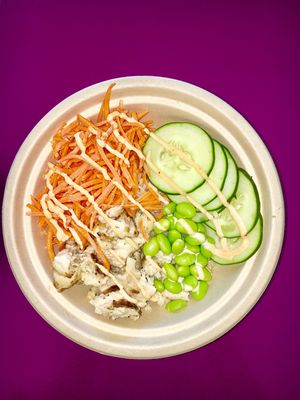sushi: (1, 77, 295, 382)
